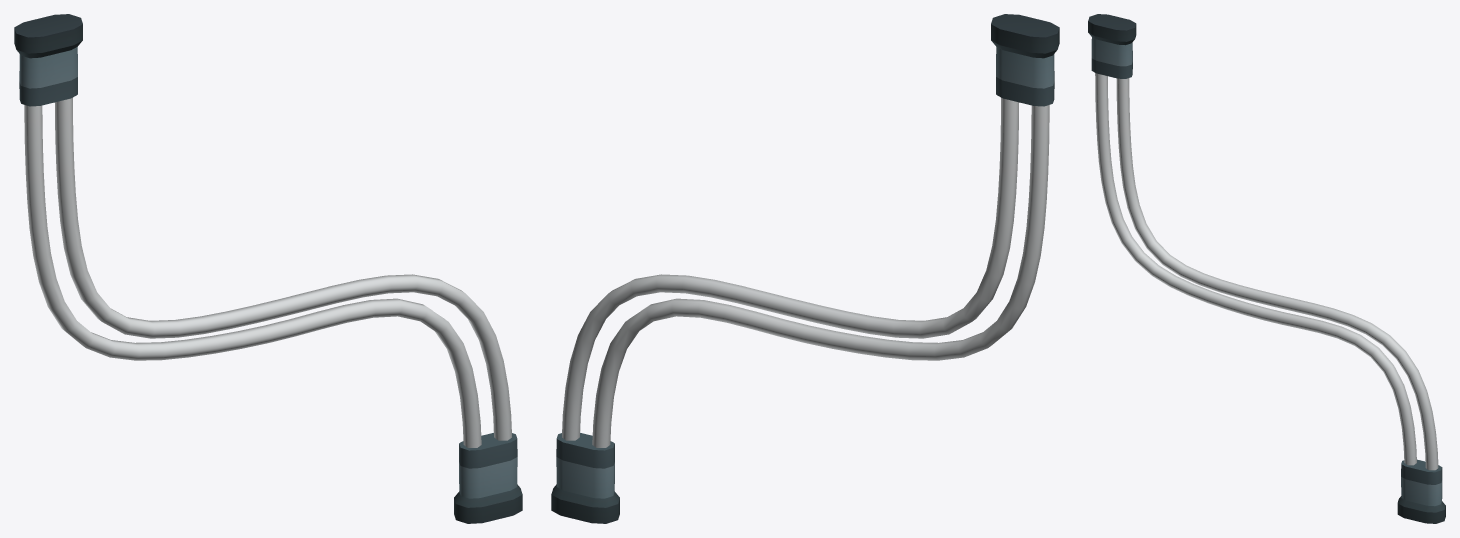
Rendered from Cable_type_B_007.glb.
The picture shows the model from 3 angles, left to right: view 1: azimuth 30°, elevation 25°; view 2: azimuth 150°, elevation 25°; view 3: azimuth 330°, elevation 25°; orthographic projection. The views are drawn at different scales.
Visible parts, largest first — view 1: Cable_type_B_007; view 2: Cable_type_B_007; view 3: Cable_type_B_007.
Part boxes in pixels (box(x1,y1,x2,y2)): Cable_type_B_007: box(14, 14, 522, 523); Cable_type_B_007: box(551, 14, 1059, 523); Cable_type_B_007: box(1088, 14, 1445, 523).
Bounding box in the file's own units: 1.16 × 1.31 × 0.0783.
Materials: 1 (1 with a texture image).
